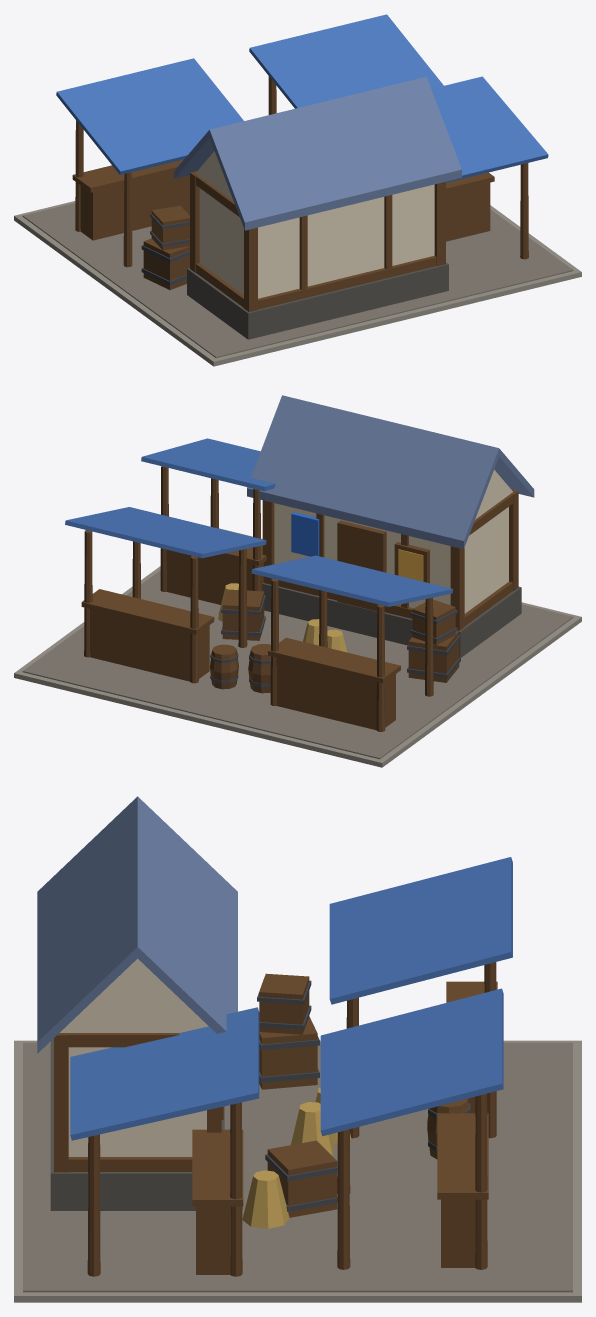
The model's file is Market.obj.
3 views of the same model, one above another, from view 1: azimuth 30°, elevation 25°; view 2: azimuth 150°, elevation 25°; view 3: azimuth 270°, elevation 25° (orthographic). The views are drawn at different scales.
Parts seen in each view (by area): view 1: Market_fabric_team, Market_roof_team, Market_timber, Market_cobble, Market_plaster, Market_dark_stone, Market_stone, Market_iron; view 2: Market_timber, Market_roof_team, Market_cobble, Market_fabric_team, Market_plaster, Market_stone, Market_dark_stone, Market_iron, Market_banner_team, Market_straw, Market_window_glow; view 3: Market_cobble, Market_fabric_team, Market_timber, Market_roof_team, Market_stone, Market_plaster, Market_dark_stone, Market_straw, Market_iron.
Part boxes in pixels (x1,y1,x2,y2): Market_fabric_team: [56, 14, 548, 182]; Market_roof_team: [174, 76, 461, 230]; Market_timber: [72, 76, 528, 311]; Market_cobble: [22, 203, 573, 358]; Market_plaster: [195, 151, 434, 298]; Market_dark_stone: [187, 262, 448, 339]; Market_stone: [14, 201, 581, 366]; Market_iron: [141, 213, 189, 285]; Market_timber: [81, 466, 518, 731]; Market_roof_team: [247, 395, 534, 549]; Market_cobble: [22, 570, 573, 759]; Market_fabric_team: [65, 438, 452, 606]; Market_plaster: [274, 470, 512, 613]; Market_stone: [14, 528, 581, 767]; Market_dark_stone: [262, 583, 521, 657]; Market_iron: [210, 595, 460, 686]; Market_banner_team: [291, 512, 319, 556]; Market_straw: [218, 583, 347, 652]; Market_window_glow: [398, 549, 423, 581]; Market_cobble: [23, 1042, 572, 1292]; Market_fabric_team: [70, 857, 512, 1140]; Market_timber: [54, 962, 497, 1276]; Market_roof_team: [37, 796, 237, 1053]; Market_stone: [14, 1040, 581, 1302]; Market_plaster: [60, 958, 208, 1156]; Market_dark_stone: [50, 1038, 224, 1210]; Market_straw: [242, 1087, 350, 1228]; Market_iron: [257, 979, 470, 1211].
Size of the model in its own units: 6.6 by 3.39 by 6.2.
